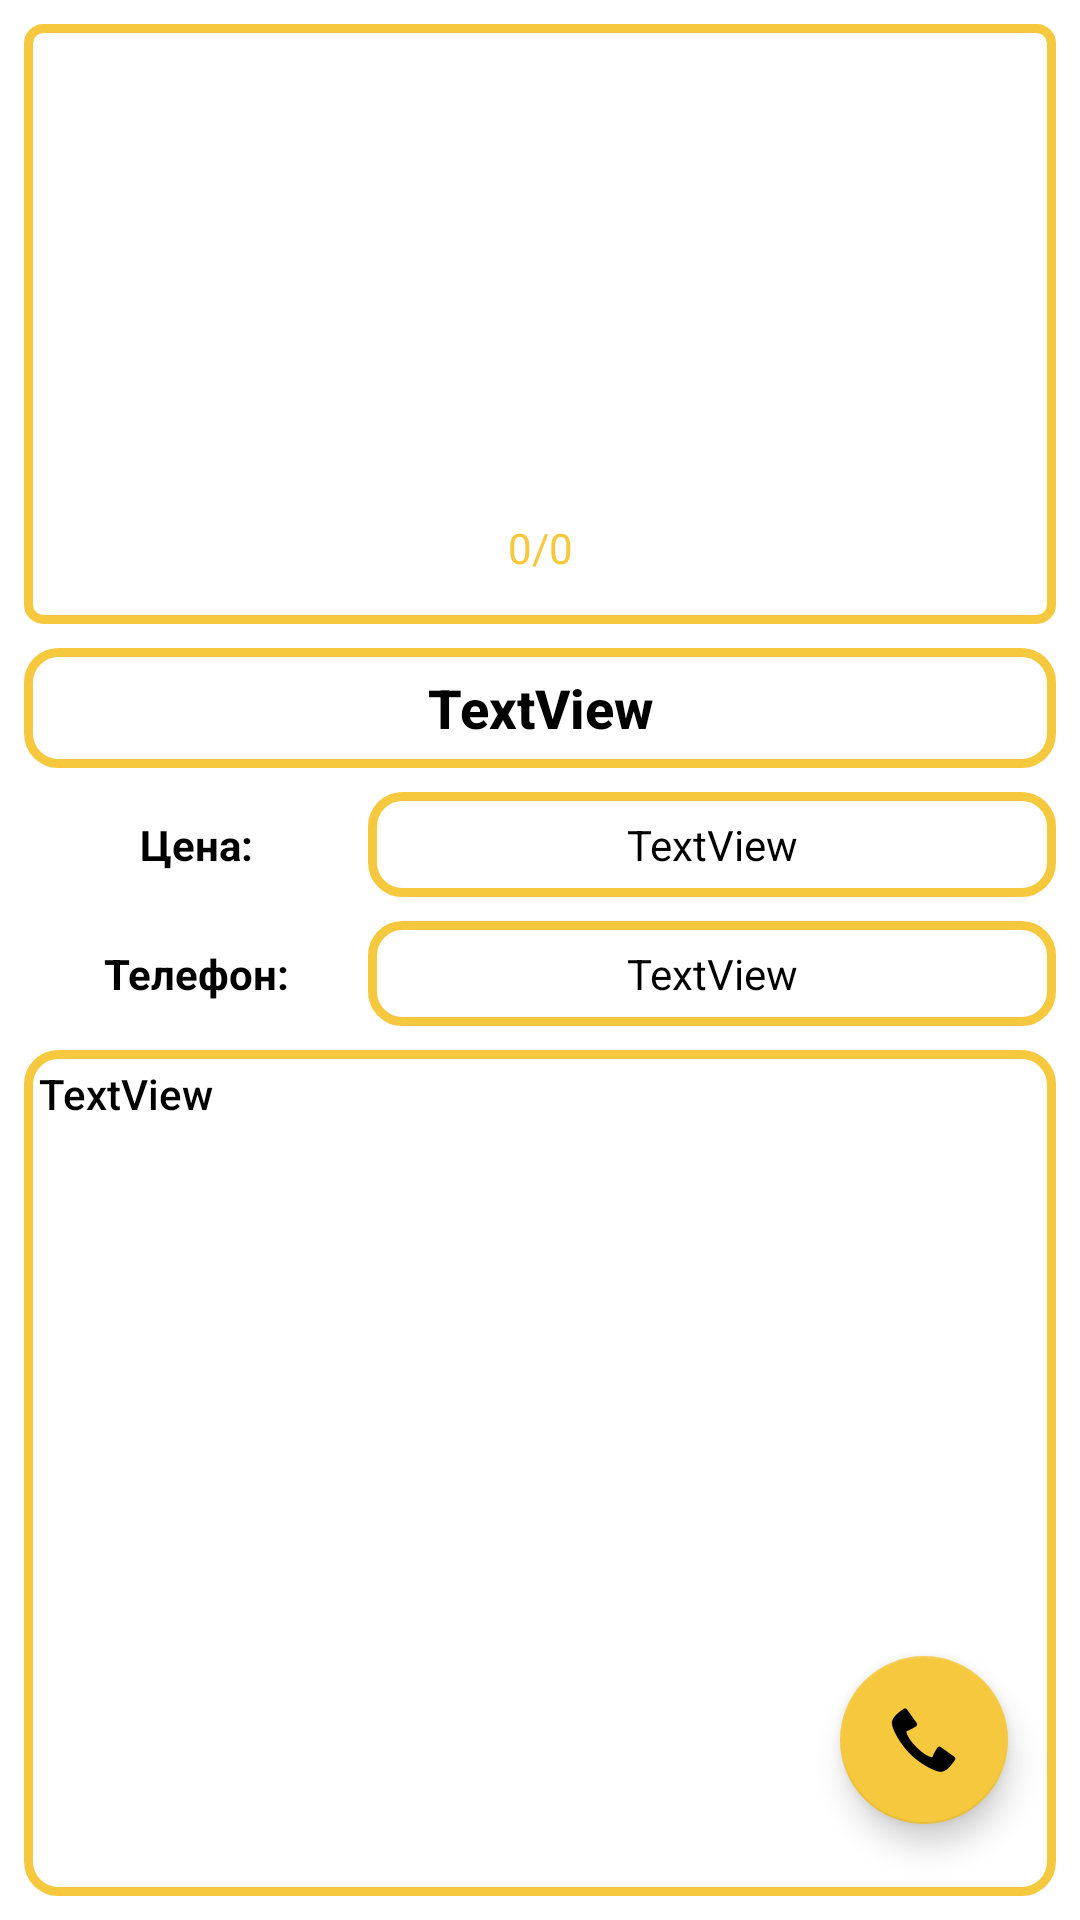

Icon bounding boxes for this 1080x1920 phone screenshot, format (x1,y1,x2,y2):
phone call: (840,1656,1008,1824)
